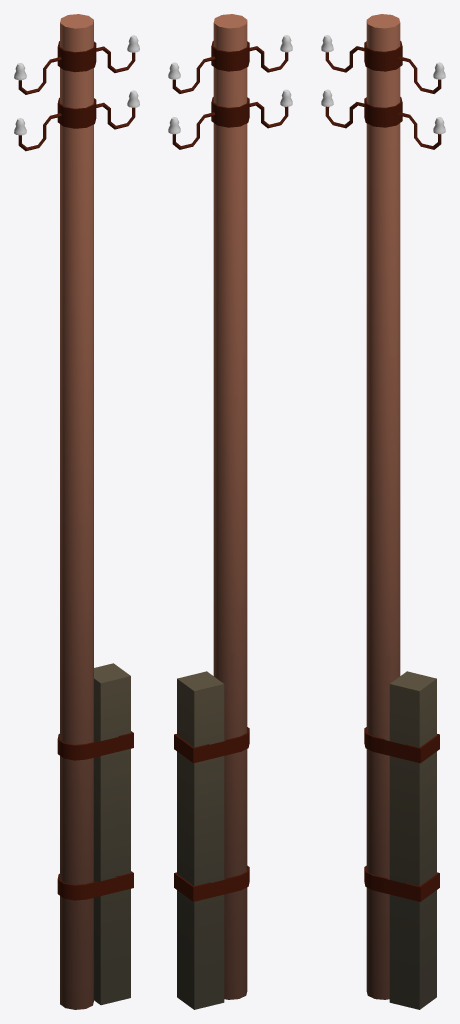
The model's file is Pillar1.fbx.
The picture shows the model from 3 angles, left to right: view 1: azimuth 30°, elevation 25°; view 2: azimuth 210°, elevation 25°; view 3: azimuth 330°, elevation 25°; orthographic projection.
Visible parts, largest first — view 1: Pillar.005; view 2: Pillar.005; view 3: Pillar.005.
Boxes of the visible parts, left/top/right/bottom form: Pillar.005: left=14, top=14, right=139, bottom=1009; Pillar.005: left=168, top=14, right=292, bottom=1009; Pillar.005: left=321, top=14, right=445, bottom=1009.
Size of the model in its own units: 72.22 by 547 by 19.95.
